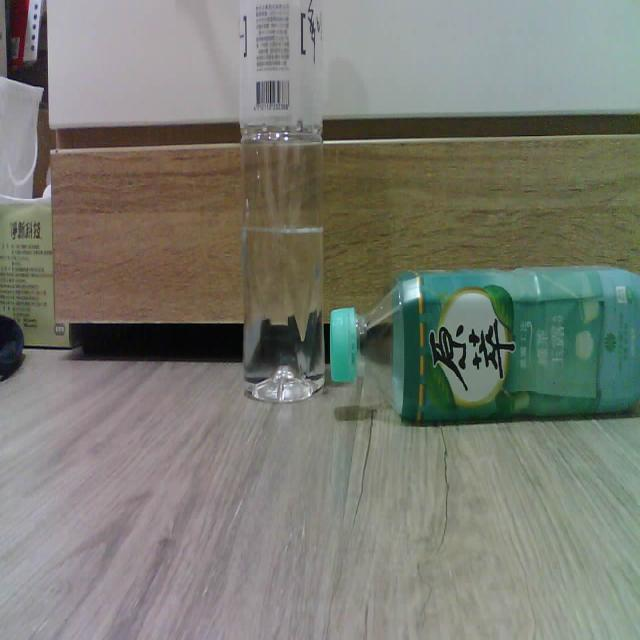bottle: (330, 267, 640, 421), (239, 0, 324, 401)
